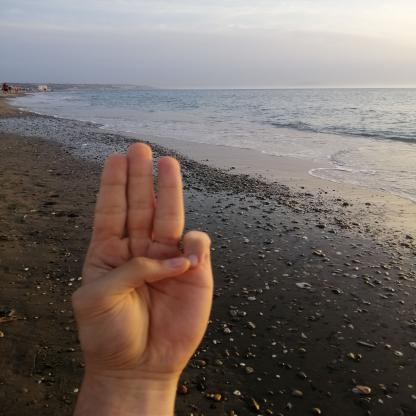THA: (55, 128, 235, 388)
